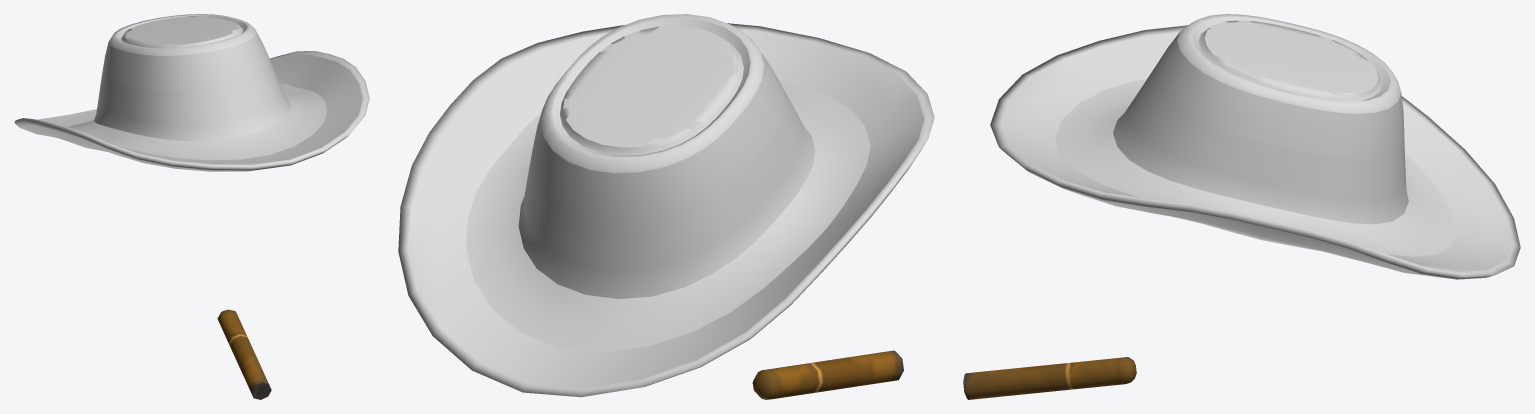
Rendered from ObamaNew.fbx.
3 renders of one model, left to right at view 1: azimuth 30°, elevation 25°; view 2: azimuth 150°, elevation 25°; view 3: azimuth 270°, elevation 25°, orthographic. The views are drawn at different scales.
Parts seen in each view (by area): view 1: Hat_low, Cylinder; view 2: Hat_low, Cylinder; view 3: Hat_low, Cylinder.
Part boxes in pixels (bbox=[...]): Hat_low: bbox=[14, 14, 369, 171]; Cylinder: bbox=[217, 309, 271, 399]; Hat_low: bbox=[398, 14, 934, 397]; Cylinder: bbox=[752, 350, 903, 399]; Hat_low: bbox=[990, 14, 1520, 279]; Cylinder: bbox=[963, 357, 1136, 399].
Bounding box in the file's own units: 123 × 121 × 156.
2 materials, 1 textured.
